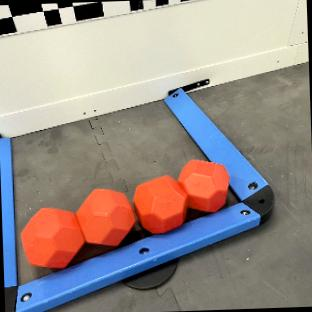Parking - Part: (15, 90, 274, 312)
V5_RED: (22, 189, 134, 268)
